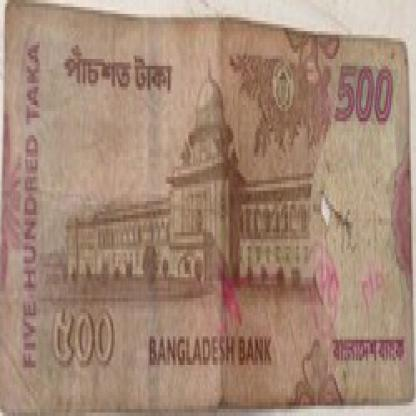500 taka: (53, 42, 190, 108), (43, 295, 126, 381), (326, 59, 396, 125)
currency: (7, 11, 414, 402)
